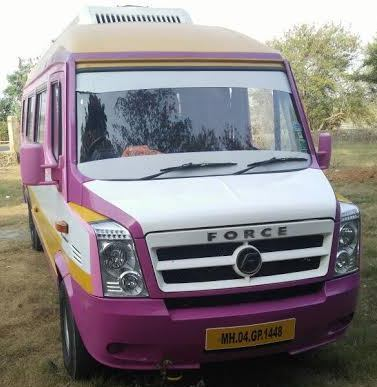numberplate: (205, 317, 298, 351)
